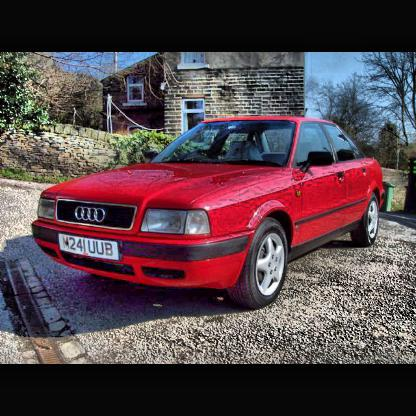Audi 100 Sedan 1994: (32, 118, 386, 311)
